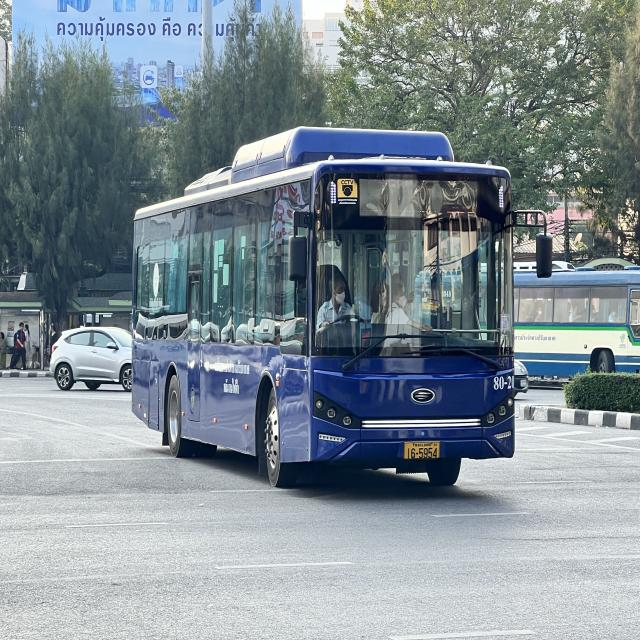Bus-Line-Number: (442, 181, 477, 221)
Destination-Sign-Normal: (356, 175, 441, 221)
TSB-Bus: (130, 128, 518, 488)
